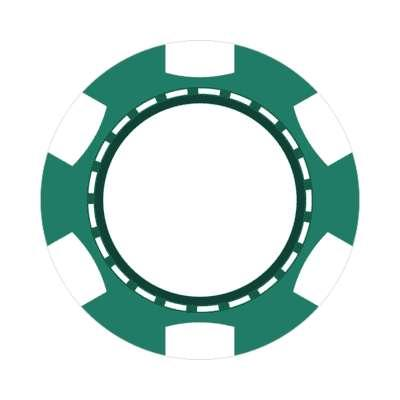chip-green: (41, 41, 359, 355)
